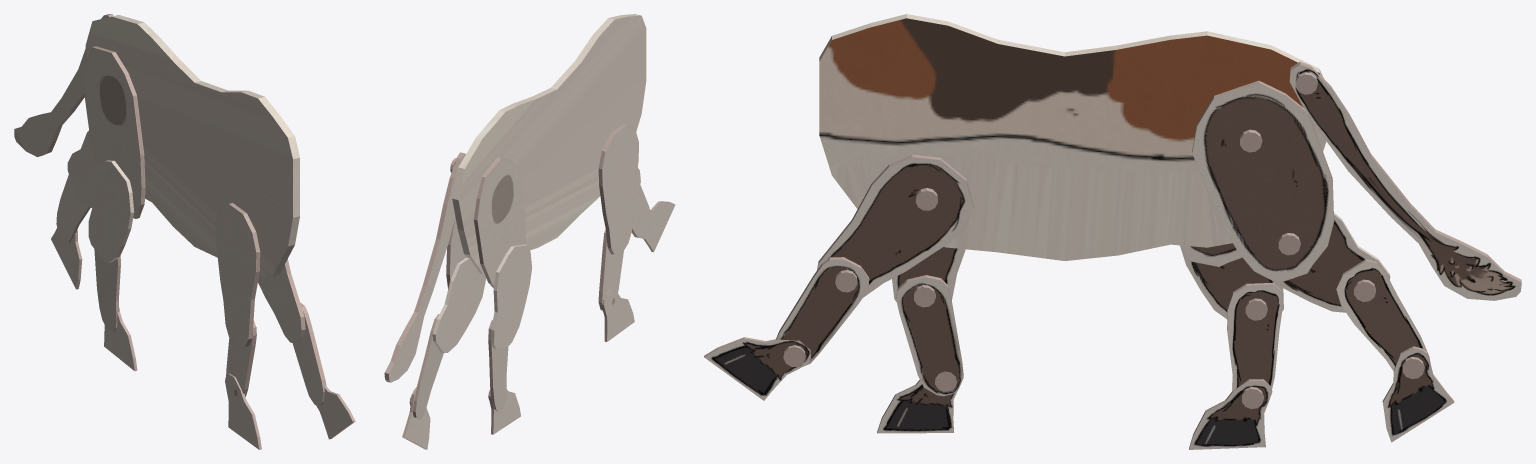
File: BodyDonkeyLeft.fbx
3 views of the same model, side by side, from view 1: azimuth 30°, elevation 25°; view 2: azimuth 150°, elevation 25°; view 3: azimuth 270°, elevation 25° (orthographic). The views are drawn at different scales.
Parts seen in each view (by area): view 1: Donke main body.002, Donke leg F1.007, Donke Leg F1.007, Donke Leg B2.007, Donke Tail.003, Donke Leg F1.006, Donke leg F2.006, Plane.007, Donke Hoof F.007, Donke Leg B2.006, Plane.008, Donke Hoof F.006 (+3 smaller); view 2: Donke main body.002, Donke leg F1.007, Donke Leg F1.007, Donke Tail.003, Donke Leg B2.007, Donke Leg B2.006, Plane.008, Plane.007, Donke Hoof F.007, Donke leg F2.007, Hoof B.006, Donke Hoof F.006 (+3 smaller); view 3: Donke main body.002, Donke leg F1.006, Donke Leg F1.006, Donke Tail.003, Donke leg F2.007, Plane.008, Donke leg F2.006, Plane.007, Hoof B.007, Hoof B.006, Donke Hoof F.006, Donke Leg B2.006 (+4 smaller).
Part boxes in pixels (<box>): Donke main body.002: <box>85,15,299,276</box>; Donke leg F1.007: <box>82,46,145,218</box>; Donke Leg F1.007: <box>215,203,260,347</box>; Donke Leg B2.007: <box>88,160,134,262</box>; Donke Tail.003: <box>14,14,113,156</box>; Donke Leg F1.006: <box>258,259,305,342</box>; Donke leg F2.006: <box>292,302,326,405</box>; Plane.007: <box>94,249,120,331</box>; Donke Hoof F.007: <box>225,373,261,449</box>; Donke Leg B2.006: <box>67,130,96,207</box>; Plane.008: <box>56,174,90,242</box>; Donke Hoof F.006: <box>316,386,355,439</box>; Donke main body.002: <box>452,14,646,274</box>; Donke leg F1.007: <box>473,157,525,288</box>; Donke Leg F1.007: <box>598,124,638,254</box>; Donke Tail.003: <box>384,152,465,382</box>; Donke Leg B2.007: <box>491,244,531,348</box>; Donke Leg B2.006: <box>432,257,486,353</box>; Plane.008: <box>412,314,443,419</box>; Plane.007: <box>488,320,508,411</box>; Donke Hoof F.007: <box>601,289,634,341</box>; Donke leg F2.007: <box>598,229,623,310</box>; Hoof B.006: <box>402,387,430,449</box>; Donke Hoof F.006: <box>640,201,675,252</box>; Donke main body.002: <box>819,14,1326,260</box>; Donke leg F1.006: <box>1192,80,1333,283</box>; Donke Leg F1.006: <box>817,154,973,297</box>; Donke Tail.003: <box>1289,61,1521,300</box>; Donke leg F2.007: <box>896,275,963,396</box>; Plane.008: <box>1336,259,1430,371</box>; Donke leg F2.006: <box>776,257,869,365</box>; Plane.007: <box>1227,282,1282,391</box>; Hoof B.007: <box>1189,379,1272,449</box>; Hoof B.006: <box>1382,346,1454,442</box>; Donke Hoof F.006: <box>704,337,810,400</box>; Donke Leg B2.006: <box>1277,212,1390,312</box>.
Size of the model in its own units: 13.41 by 117 by 197.
